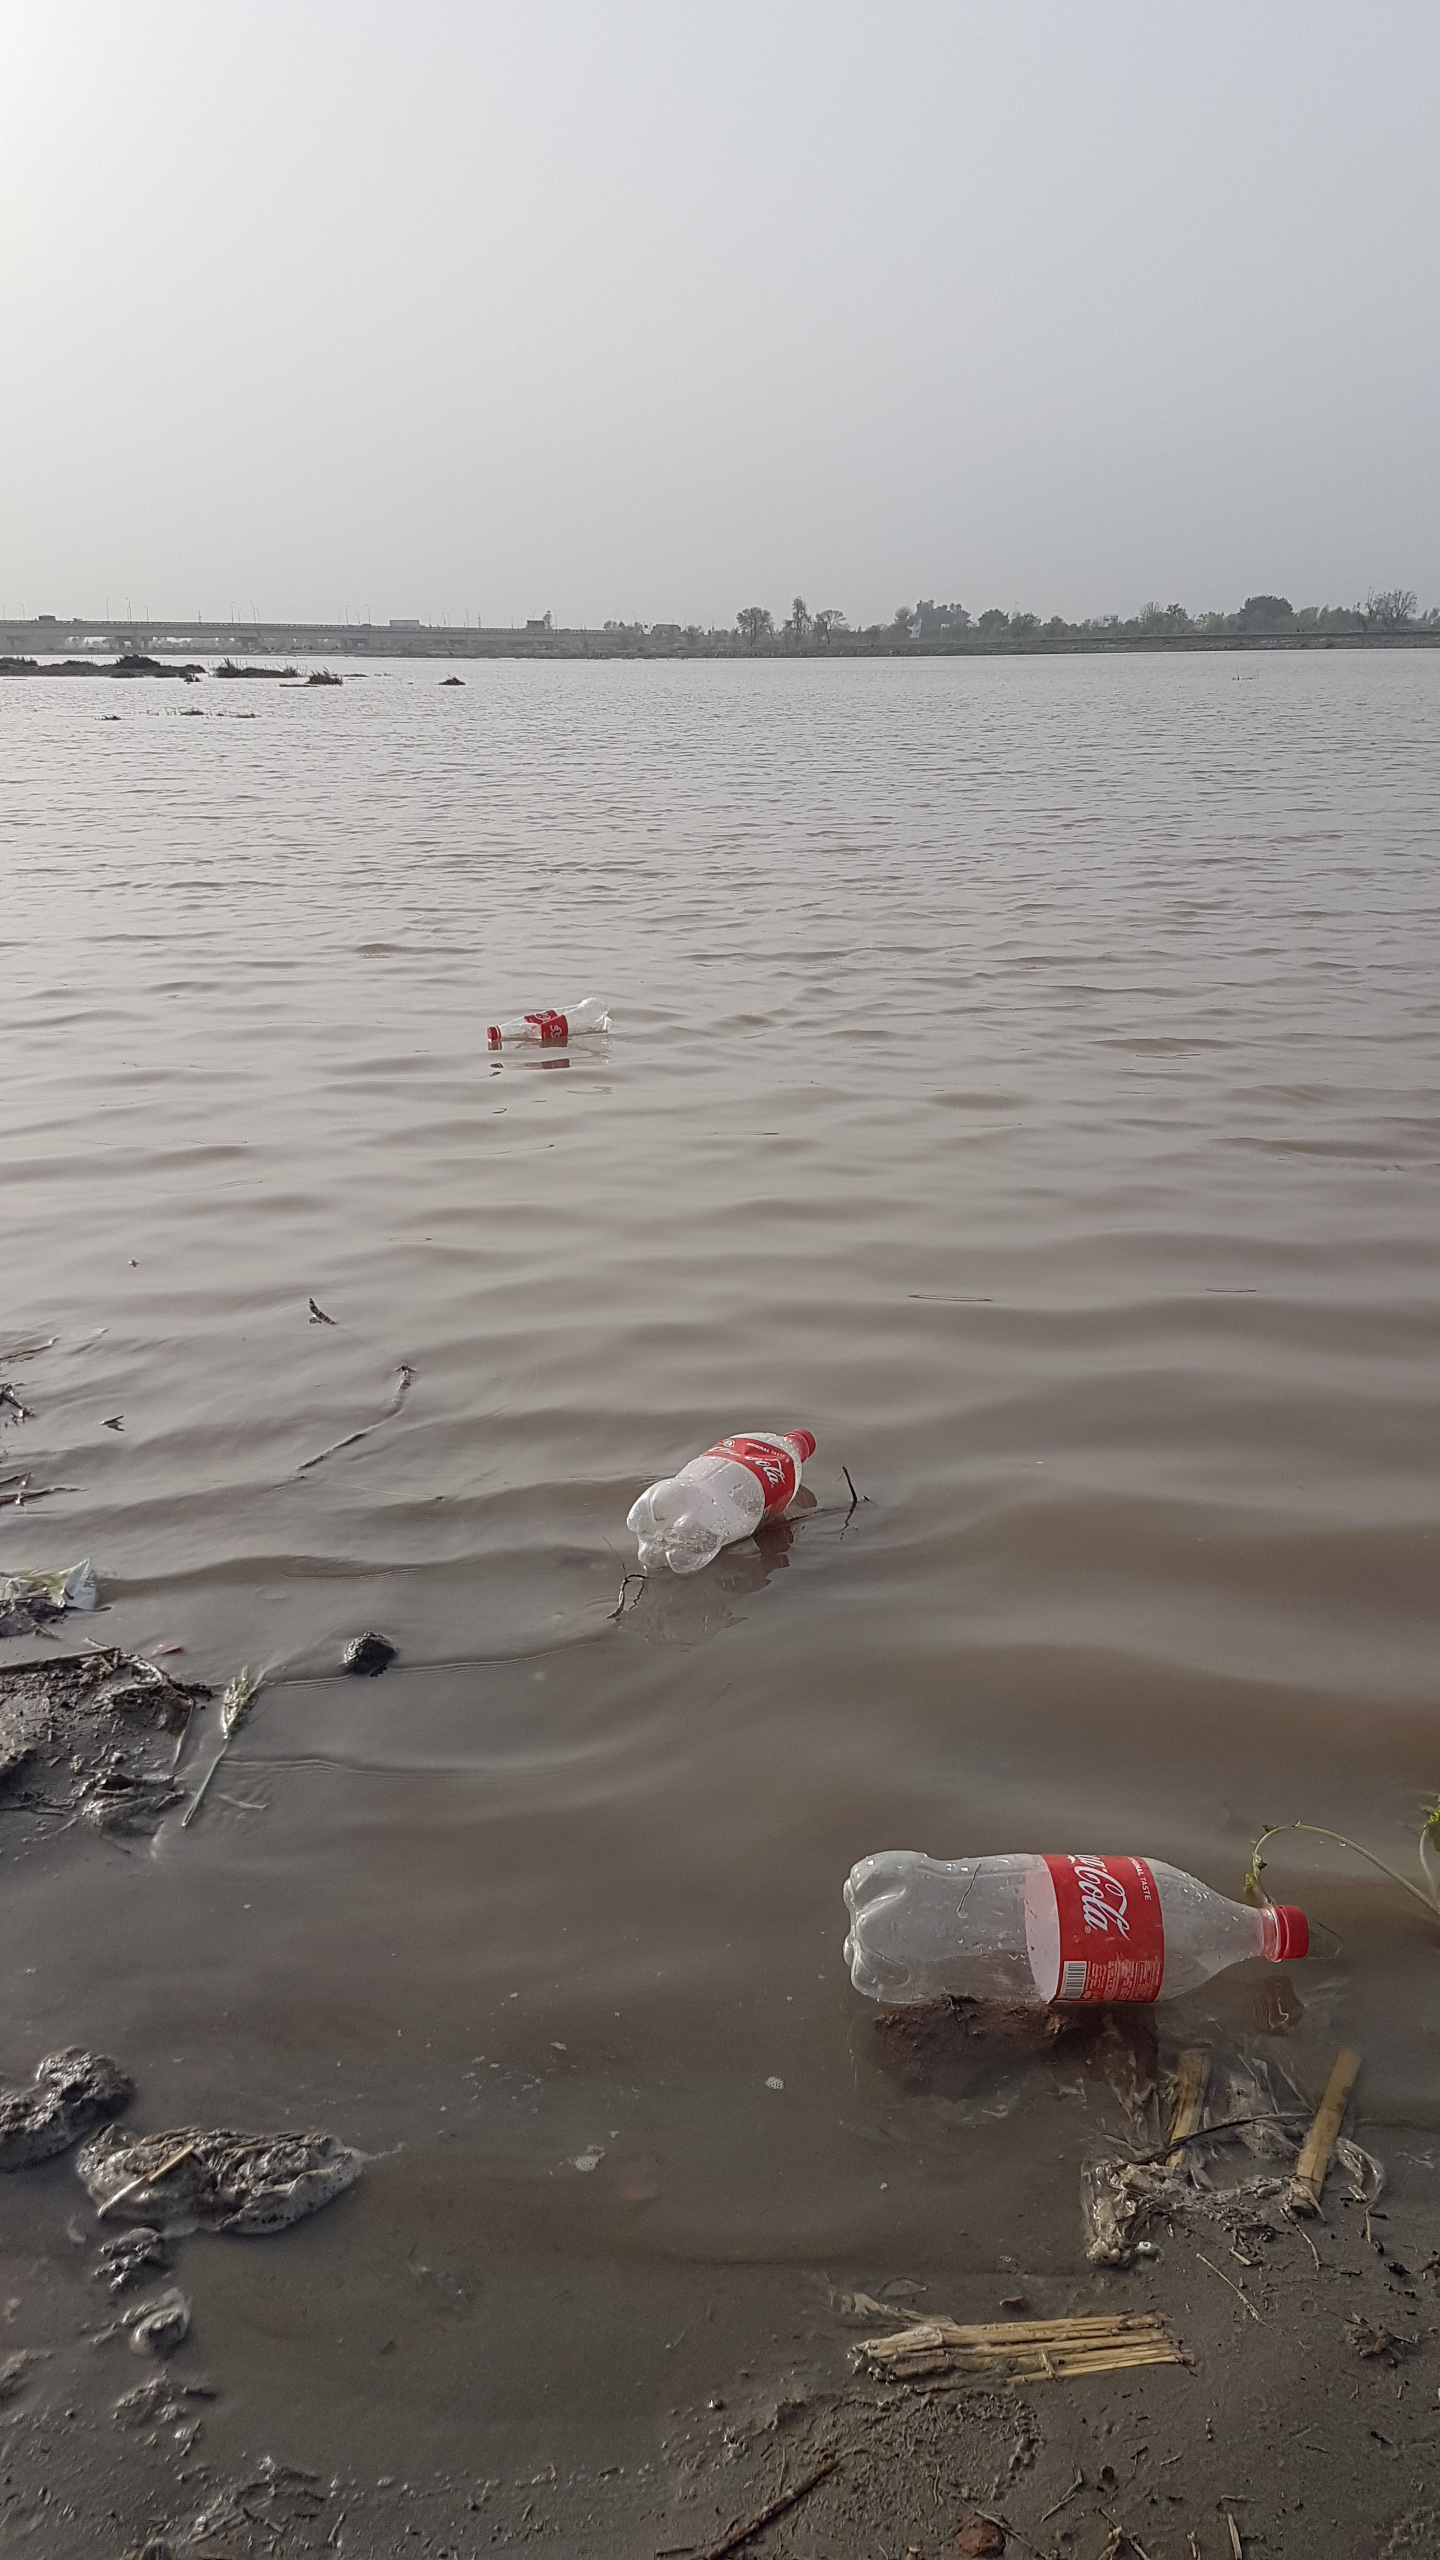Plastic Bottle: (840, 1850, 1308, 2006), (624, 1428, 816, 1574), (487, 997, 612, 1041)
